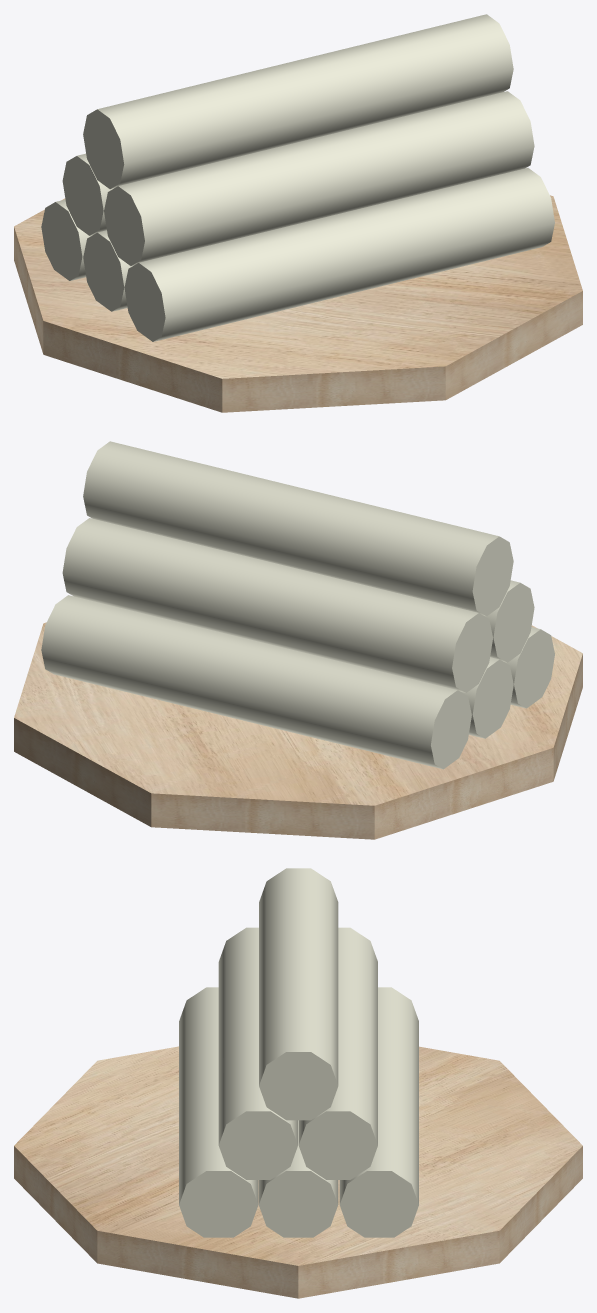
Rendered from Garae.fbx.
3 renders of one model, top to bottom at view 1: azimuth 30°, elevation 25°; view 2: azimuth 150°, elevation 25°; view 3: azimuth 270°, elevation 25°, orthographic. The views are drawn at different scales.
Parts seen in each view (by area): view 1: Cylinder.006, Cylinder, Cylinder.005, Cylinder.003, Cylinder.002, Cylinder.004, Cylinder.001; view 2: Cylinder.006, Cylinder.002, Cylinder.004, Cylinder.005, Cylinder.003, Cylinder.001, Cylinder; view 3: Cylinder.006, Cylinder.005, Cylinder.003, Cylinder.002, Cylinder.004, Cylinder, Cylinder.001.
Part boxes in pixels (x1,y1,x2,y2): Cylinder.006: [14, 195, 582, 412]; Cylinder: [124, 168, 554, 341]; Cylinder.005: [83, 14, 513, 189]; Cylinder.003: [104, 91, 534, 265]; Cylinder.002: [41, 199, 91, 280]; Cylinder.004: [62, 153, 113, 235]; Cylinder.001: [83, 230, 132, 311]; Cylinder.006: [14, 622, 582, 839]; Cylinder.002: [41, 595, 471, 769]; Cylinder.004: [62, 518, 492, 692]; Cylinder.005: [83, 441, 513, 616]; Cylinder.003: [484, 580, 534, 662]; Cylinder.001: [461, 657, 513, 738]; Cylinder: [504, 627, 554, 708]; Cylinder.006: [14, 1046, 582, 1298]; Cylinder.005: [259, 868, 338, 1120]; Cylinder.003: [218, 927, 297, 1179]; Cylinder.002: [339, 987, 418, 1237]; Cylinder.004: [298, 927, 377, 1179]; Cylinder: [179, 987, 258, 1237]; Cylinder.001: [258, 1120, 338, 1237].
Size of the model in its own units: 710 by 301 by 710.
2 materials, 1 textured.
